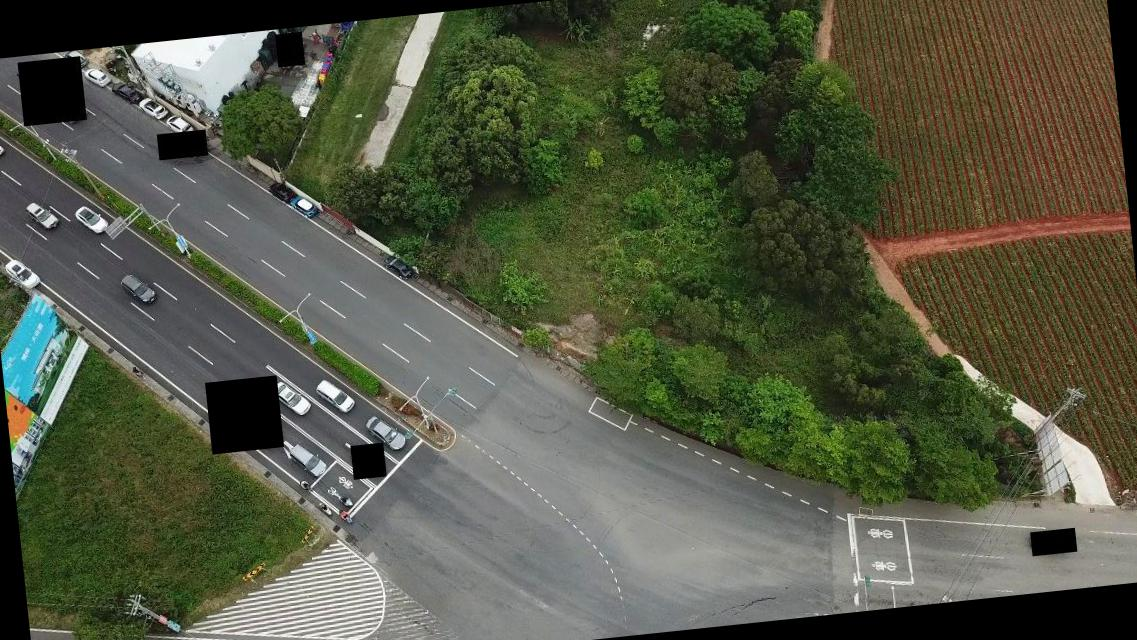vehicle: (314, 376, 355, 417), (365, 413, 406, 453), (271, 378, 310, 417), (288, 442, 326, 478), (4, 256, 40, 292), (120, 272, 156, 308), (74, 203, 110, 235), (25, 199, 59, 231), (382, 251, 413, 282), (138, 95, 168, 121), (110, 80, 140, 102), (290, 194, 316, 219), (166, 112, 192, 136), (83, 66, 111, 88), (268, 180, 293, 202), (62, 50, 89, 68), (0, 128, 6, 160)
